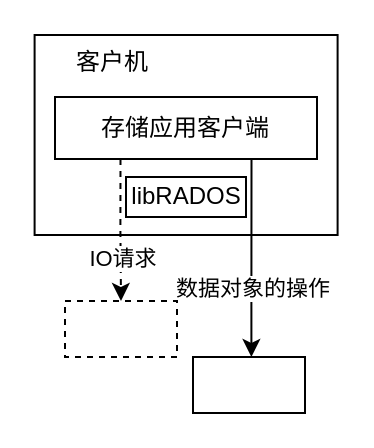
The diagram is 374 pixels wide and 448 high, and some of its shapes have lost their labels. The centre of each missing label's shape, as x and y in pixels:
"PG+OSD" belongs at (x=248, y=384).
"存储池" belongs at (x=120, y=328).
